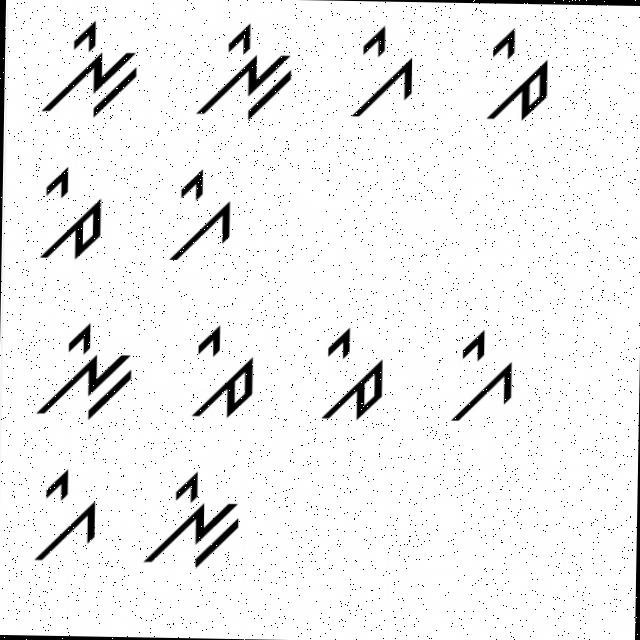gi: (23, 462, 106, 569), (438, 322, 519, 428), (159, 162, 238, 270), (338, 19, 420, 122)
ngi: (22, 316, 140, 431), (134, 463, 250, 575), (31, 15, 144, 124), (184, 18, 301, 122)
ti: (474, 22, 566, 129), (310, 320, 392, 425), (32, 162, 114, 262), (182, 326, 257, 424)
